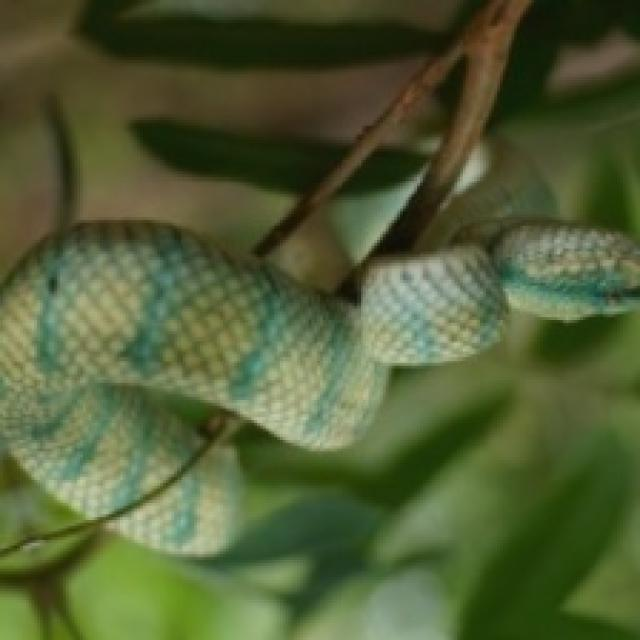north ph temple pitviper: (0, 222, 640, 556)
